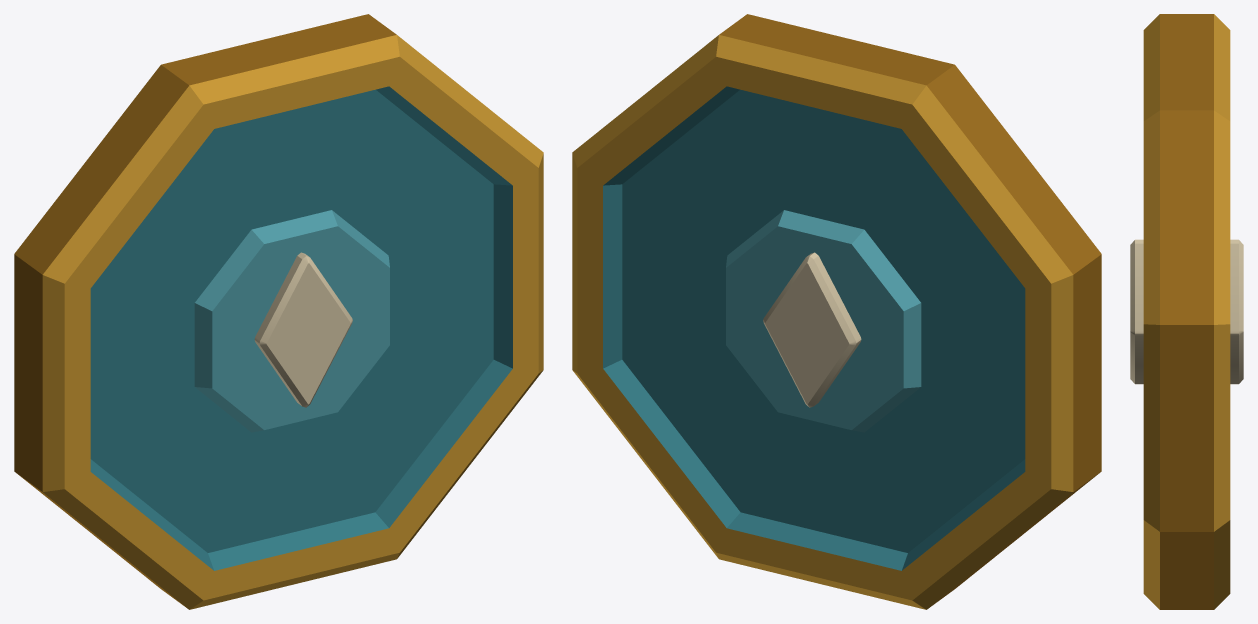
The model's file is Coin_26.glb.
The picture shows the model from 3 angles, left to right: view 1: azimuth 30°, elevation 25°; view 2: azimuth 150°, elevation 25°; view 3: azimuth 270°, elevation 25°; orthographic projection. The views are drawn at different scales.
Visible parts, largest first — view 1: Coin_26; view 2: Coin_26; view 3: Coin_26.
Boxes of the visible parts, x1,y1,x2,y2 form: Coin_26: (14, 14, 543, 609); Coin_26: (572, 14, 1101, 609); Coin_26: (1130, 14, 1243, 609).
Size of the model in its own units: 1.53 by 1.53 by 0.314.
